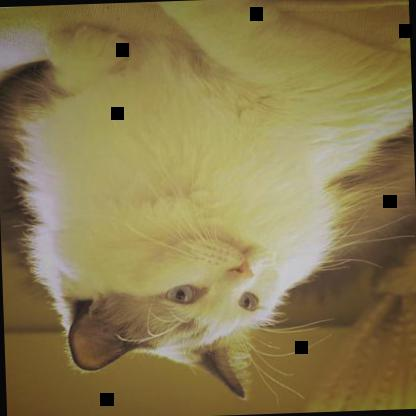cat: (5, 0, 415, 408)
